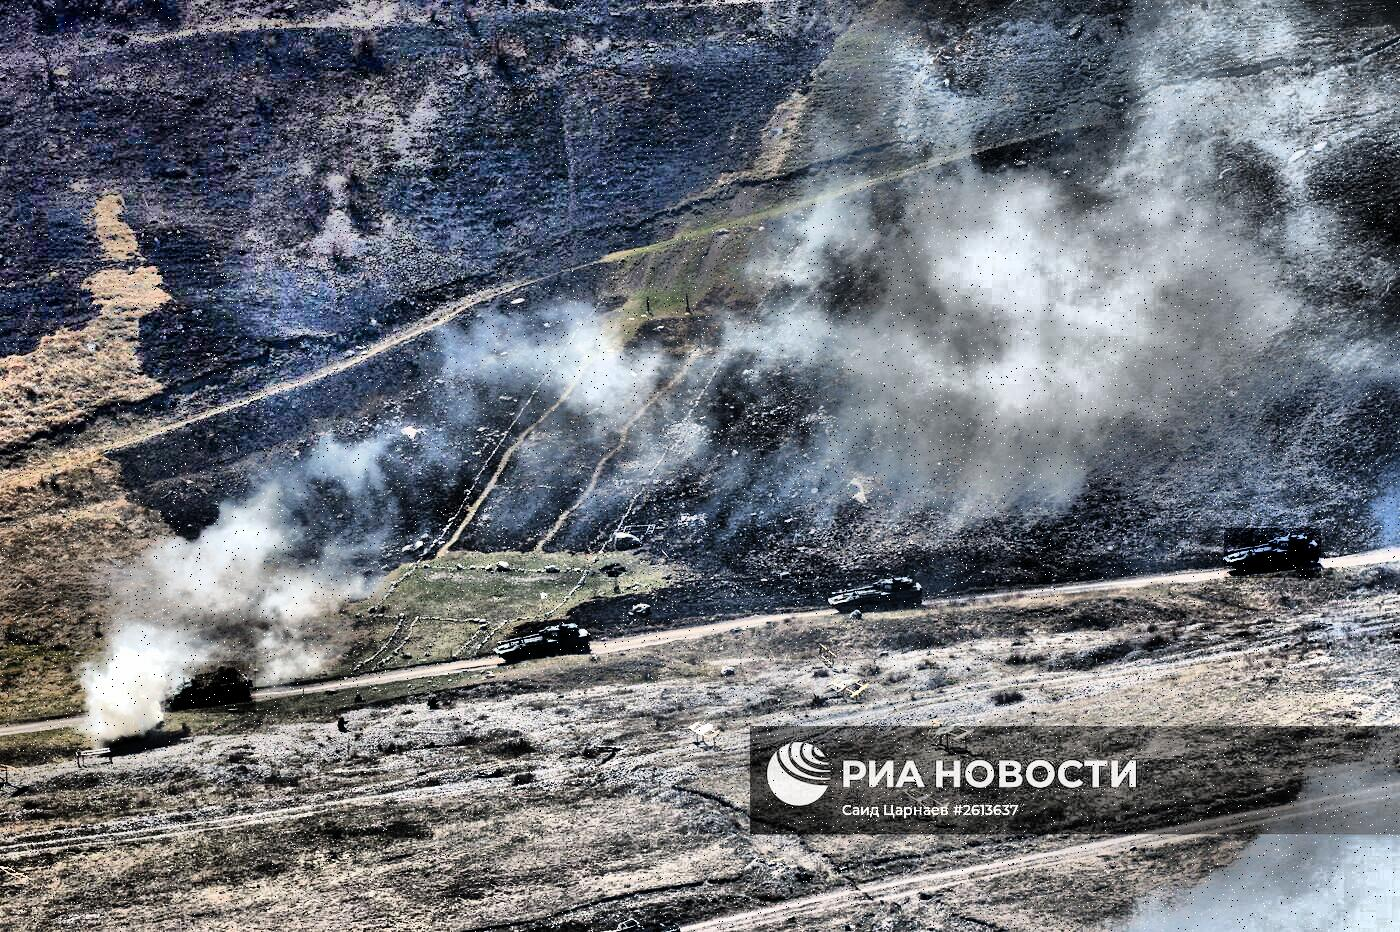military-vehicle: (1224, 528, 1321, 578), (165, 662, 257, 713), (494, 623, 596, 663), (829, 573, 926, 614)
